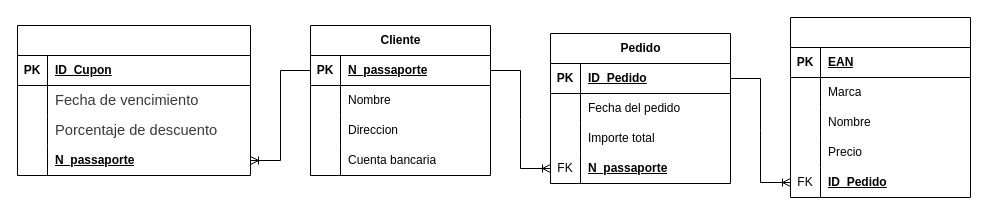
This 988x215 diagram has some shape labels left out. The box of each missing label's shape, as (x1, y1, x2, y2) in pixels:
Cupones: (16, 24, 250, 176)
Producto: (790, 16, 970, 198)
